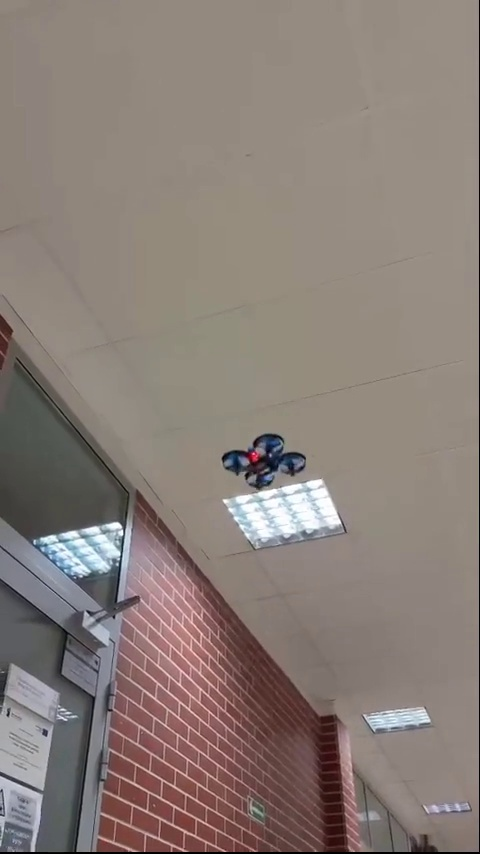drone: (219, 434, 301, 491)
